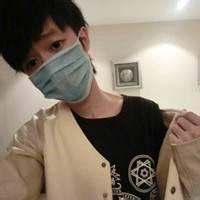face_mask: (22, 15, 89, 103)
